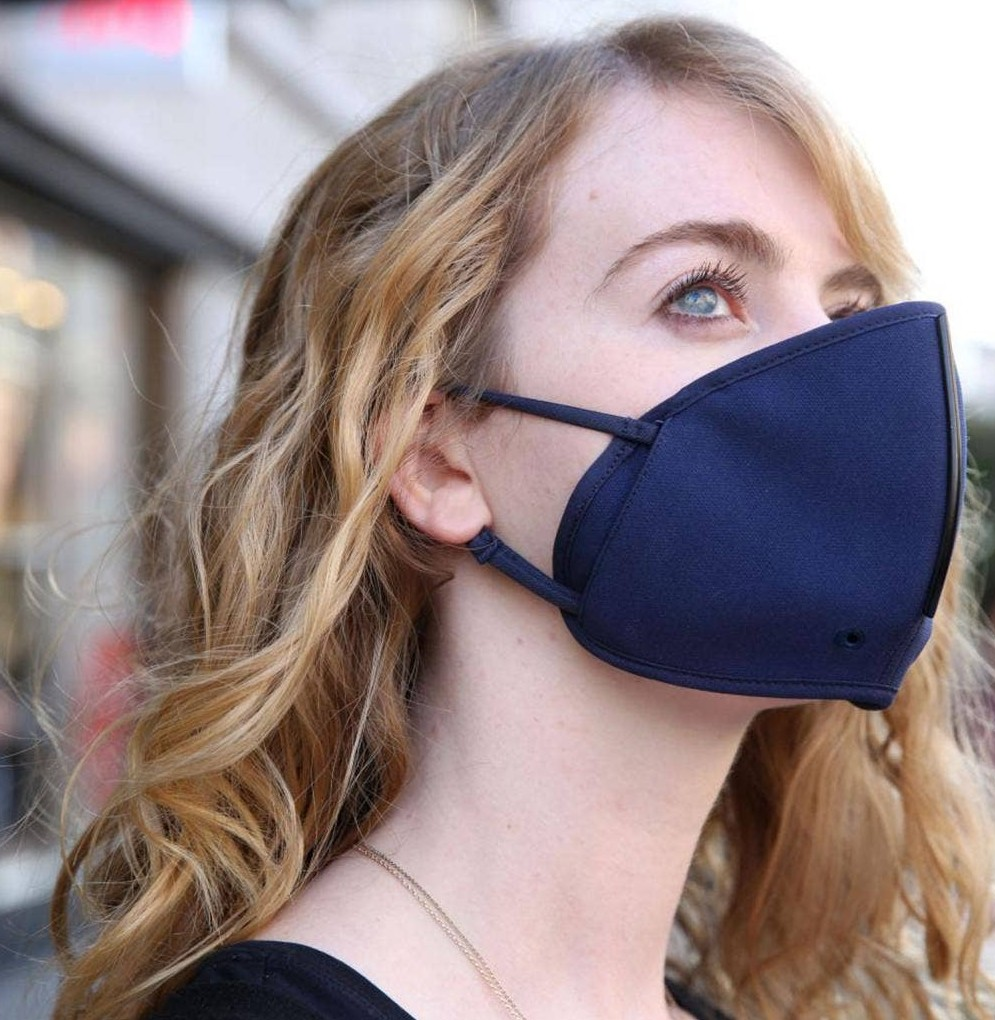with_mask: (375, 88, 966, 782)
